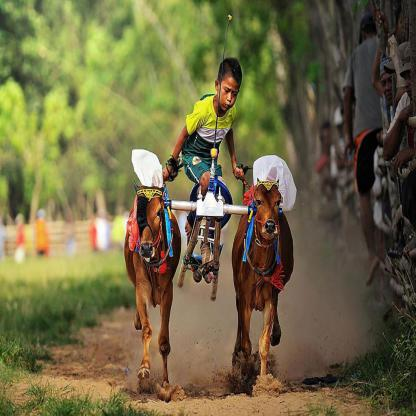face: (219, 80, 240, 113), (381, 73, 397, 106), (405, 72, 416, 101), (322, 131, 335, 153)
